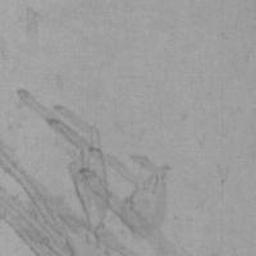Water spot: (0, 87, 193, 256)
